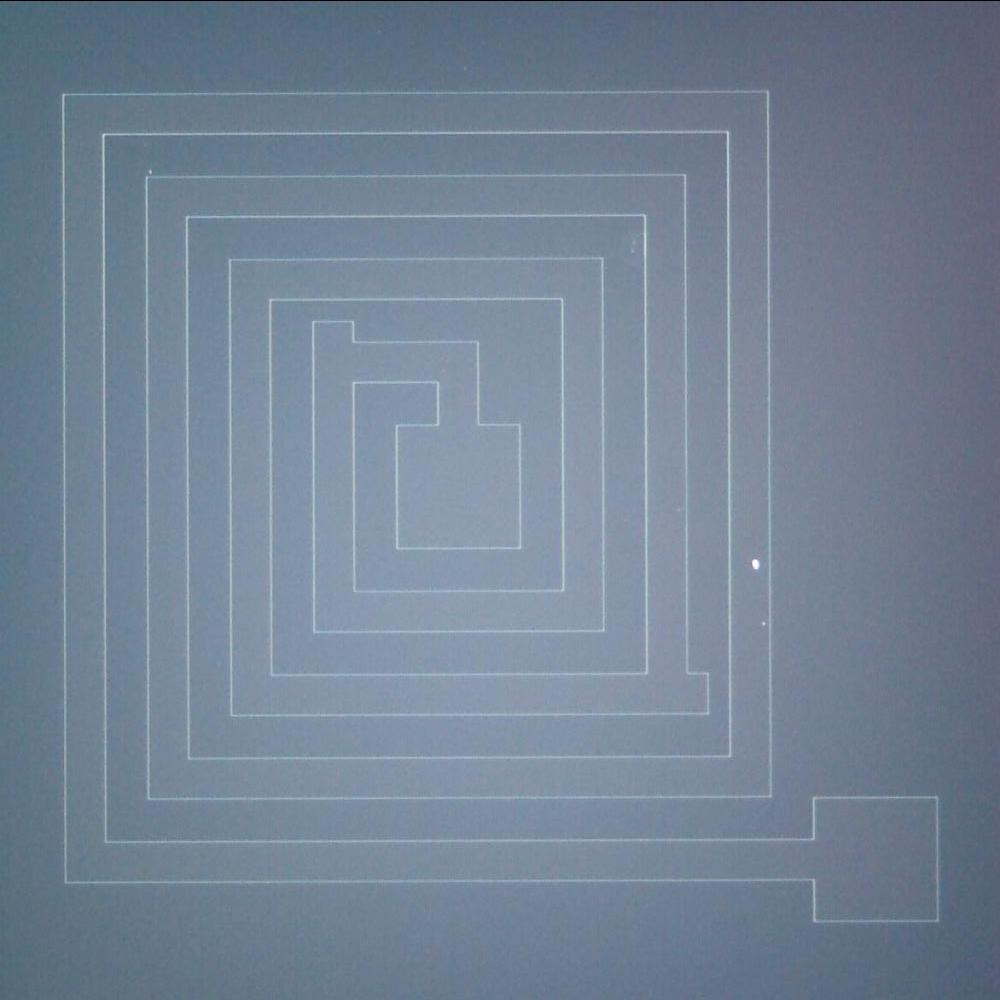budge circuit: (676, 656, 713, 722), (300, 314, 367, 350)
spot: (742, 551, 768, 577)
